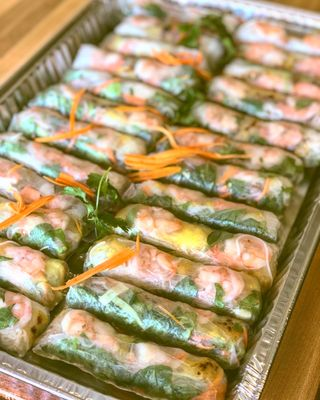sandwich: (0, 31, 292, 397)
